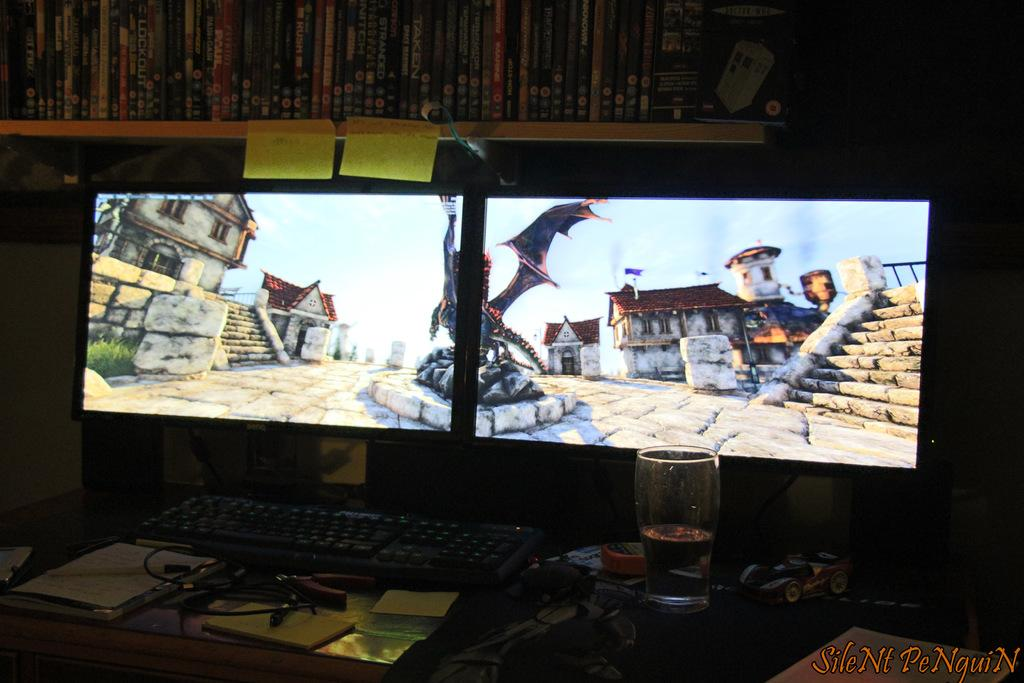Computer-keyboard: (129, 488, 545, 582)
Computer-monitor: (443, 179, 968, 562), (59, 167, 472, 520)
